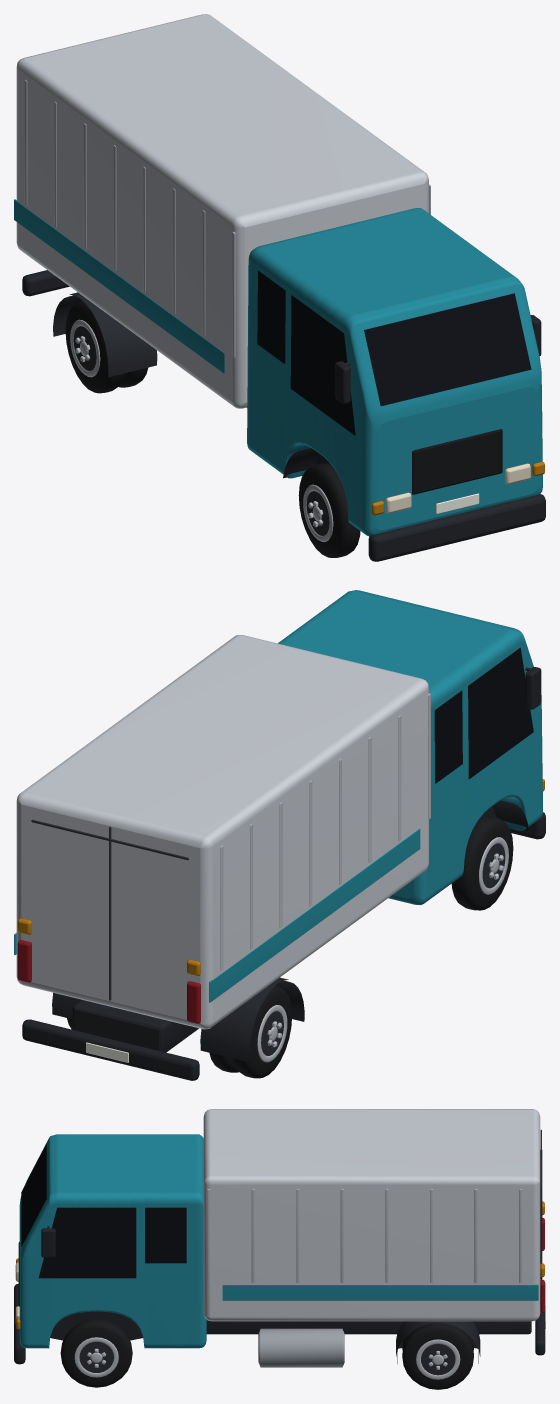
The model's file is truck-teal.glb.
3 renders of one model, top to bottom at view 1: azimuth 30°, elevation 25°; view 2: azimuth 150°, elevation 25°; view 3: azimuth 270°, elevation 25°, orthographic. The views are drawn at different scales.
Visible parts, largest first — view 1: cargo, cab, cab_glass, bumper_f, cargo_stripe, grille, cargo_ribs, mudguards, wheel_f_r_tyre, wheel_r_r_tyre1, wheel_f_r_rim, wheel_r_r_rim (+3 smaller); view 2: cargo, cab, cab_glass, cargo_stripe, cargo_ribs, underbody, bumper_r, mudguards, wheel_f_r_tyre, wheel_r_r_tyre1, cargo_doors, wheel_r_r_rim (+4 smaller); view 3: cargo, cab, cab_glass, cargo_stripe, fuel_tank, cargo_ribs, underbody, wheel_f_l_tyre, wheel_r_l_tyre1, wheelhouses, mudguards, wheel_f_l_rim (+7 smaller).
Boxes of the visible parts, x1,y1,x2,y2 form: cargo: [16, 14, 428, 408]; cab: [247, 207, 542, 536]; cab_glass: [257, 270, 531, 435]; bumper_f: [368, 494, 545, 561]; cargo_stripe: [14, 199, 224, 373]; grille: [412, 429, 502, 494]; cargo_ribs: [24, 80, 430, 357]; mudguards: [53, 292, 157, 377]; wheel_f_r_tyre: [298, 463, 360, 557]; wheel_r_r_tyre1: [65, 300, 124, 393]; wheel_f_r_rim: [303, 484, 333, 542]; wheel_r_r_rim: [70, 319, 100, 377]; cargo: [16, 635, 428, 1029]; cab: [278, 590, 542, 905]; cab_glass: [434, 647, 533, 783]; cargo_stripe: [14, 828, 420, 1002]; cargo_ribs: [220, 693, 430, 971]; underbody: [72, 1000, 198, 1052]; bumper_r: [22, 1019, 199, 1080]; mudguards: [52, 977, 304, 1062]; wheel_f_r_tyre: [451, 815, 513, 910]; wheel_r_r_tyre1: [232, 985, 291, 1078]; cargo_doors: [31, 819, 188, 1000]; wheel_r_r_rim: [257, 1005, 287, 1062]; cargo: [203, 1109, 540, 1321]; cab: [19, 1134, 206, 1348]; cab_glass: [21, 1144, 186, 1278]; cargo_stripe: [222, 1284, 538, 1300]; fuel_tank: [258, 1328, 344, 1367]; cargo_ribs: [207, 1189, 522, 1282]; underbody: [206, 1320, 531, 1334]; wheel_f_l_tyre: [60, 1319, 132, 1387]; wheel_r_l_tyre1: [402, 1323, 473, 1389]; wheelhouses: [50, 1311, 143, 1340]; mudguards: [396, 1321, 480, 1363]; wheel_f_l_rim: [74, 1337, 118, 1377].
Size of the model in its own units: 2.4 by 3.3 by 7.4.
